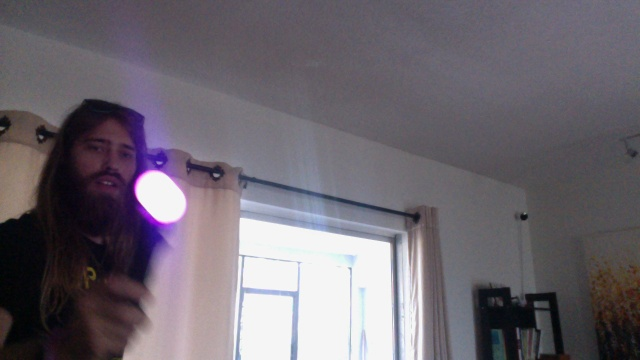wand: (135, 170, 188, 224)
